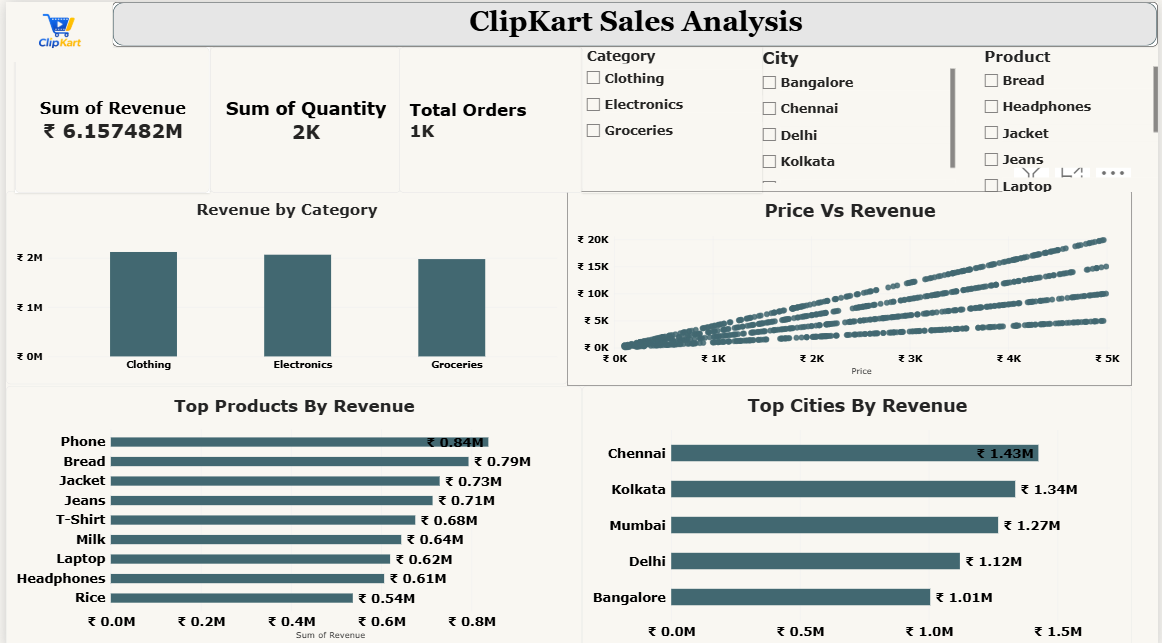

This screenshot's page, from the dashboard's own definition file:
{"tool":"powerbi","page":{"name":"Page 1","canvas":[1920,1080],"ordinal":0},"visuals":[{"type":"clusteredColumnChart","title":" Revenue by Category","fields":{"Category":["1780981841717-clipkart_ecommerce_data (1).Category"],"Y":["Sum(1780981841717-clipkart_ecommerce_data (1).Revenue)"]},"box":[0,315.9,935.7,322],"z":0},{"type":"scatterChart","title":"Price Vs Revenue","fields":{"X":["1780981841717-clipkart_ecommerce_data (1).Price"],"Y":["1780981841717-clipkart_ecommerce_data (1).Revenue"]},"box":[935.7,315.9,941.8,325.1],"z":1000},{"type":"barChart","title":"Top Products By Revenue","fields":{"Y":["Sum(1780981841717-clipkart_ecommerce_data (1).Revenue)"],"Category":["1780981841717-clipkart_ecommerce_data (1).Product"]},"box":[0,640,960,440],"z":2000},{"type":"barChart","title":"Top Cities By Revenue","fields":{"Y":["Sum(1780981841717-clipkart_ecommerce_data (1).Revenue)"],"Category":["1780981841717-clipkart_ecommerce_data (1).City"]},"box":[960,640,916.7,443.3],"z":3000},{"type":"cardVisual","fields":{"Data":["Sum(1780981841717-clipkart_ecommerce_data (1).Revenue)"]},"box":[14.3,74,324.5,243.4],"z":4000},{"type":"cardVisual","fields":{"Data":["Sum(1780981841717-clipkart_ecommerce_data (1).Quantity)"]},"box":[338.8,74,319,243],"z":5000},{"type":"cardVisual","fields":{"Data":["1780981841717-clipkart_ecommerce_data (1).Total Orders"]},"box":[656.1,74,307.8,243.4],"z":6000},{"type":"textbox","box":[177.5,115,222.5,95],"z":7000},{"type":"shape","box":[178,0,1742,74],"z":8000},{"type":"textbox","box":[100,100,447.5,127.5],"z":9000},{"type":"slicer","fields":{"Values":["1780981841717-clipkart_ecommerce_data (1).Category"]},"box":[959.1,74,300.6,243.4],"z":10000},{"type":"slicer","fields":{"Values":["1780981841717-clipkart_ecommerce_data (1).City"]},"box":[1252.6,74,329.3,226.7],"z":11000},{"type":"slicer","fields":{"Values":["1780981841717-clipkart_ecommerce_data (1).Product"]},"box":[1622.4,74,298.2,241],"z":12000},{"type":"image","box":[0,0,178,100],"z":13000}]}

Visuals, with their boxes in screenshot pixels (x1, y1, x2, y2), scaled from the page's 1920x1080 canvas onto the 1162x643 screenshot:
" Revenue by Category" clusteredColumnChart: select_region(0, 188, 566, 380)
"Price Vs Revenue" scatterChart: select_region(566, 188, 1136, 382)
"Top Products By Revenue" barChart: select_region(0, 381, 581, 642)
"Top Cities By Revenue" barChart: select_region(581, 381, 1136, 642)
cardVisual - Sum(1780981841717-clipkart_ecommerce_data (1).Revenue): select_region(9, 44, 205, 189)
cardVisual - Sum(1780981841717-clipkart_ecommerce_data (1).Quantity): select_region(205, 44, 398, 189)
cardVisual - 1780981841717-clipkart_ecommerce_data (1).Total Orders: select_region(397, 44, 583, 189)
textbox: select_region(107, 68, 242, 125)
shape: select_region(108, 0, 1161, 44)
textbox: select_region(61, 60, 331, 135)
slicer - 1780981841717-clipkart_ecommerce_data (1).Category: select_region(580, 44, 762, 189)
slicer - 1780981841717-clipkart_ecommerce_data (1).City: select_region(758, 44, 957, 179)
slicer - 1780981841717-clipkart_ecommerce_data (1).Product: select_region(982, 44, 1161, 188)
image: select_region(0, 0, 108, 60)
